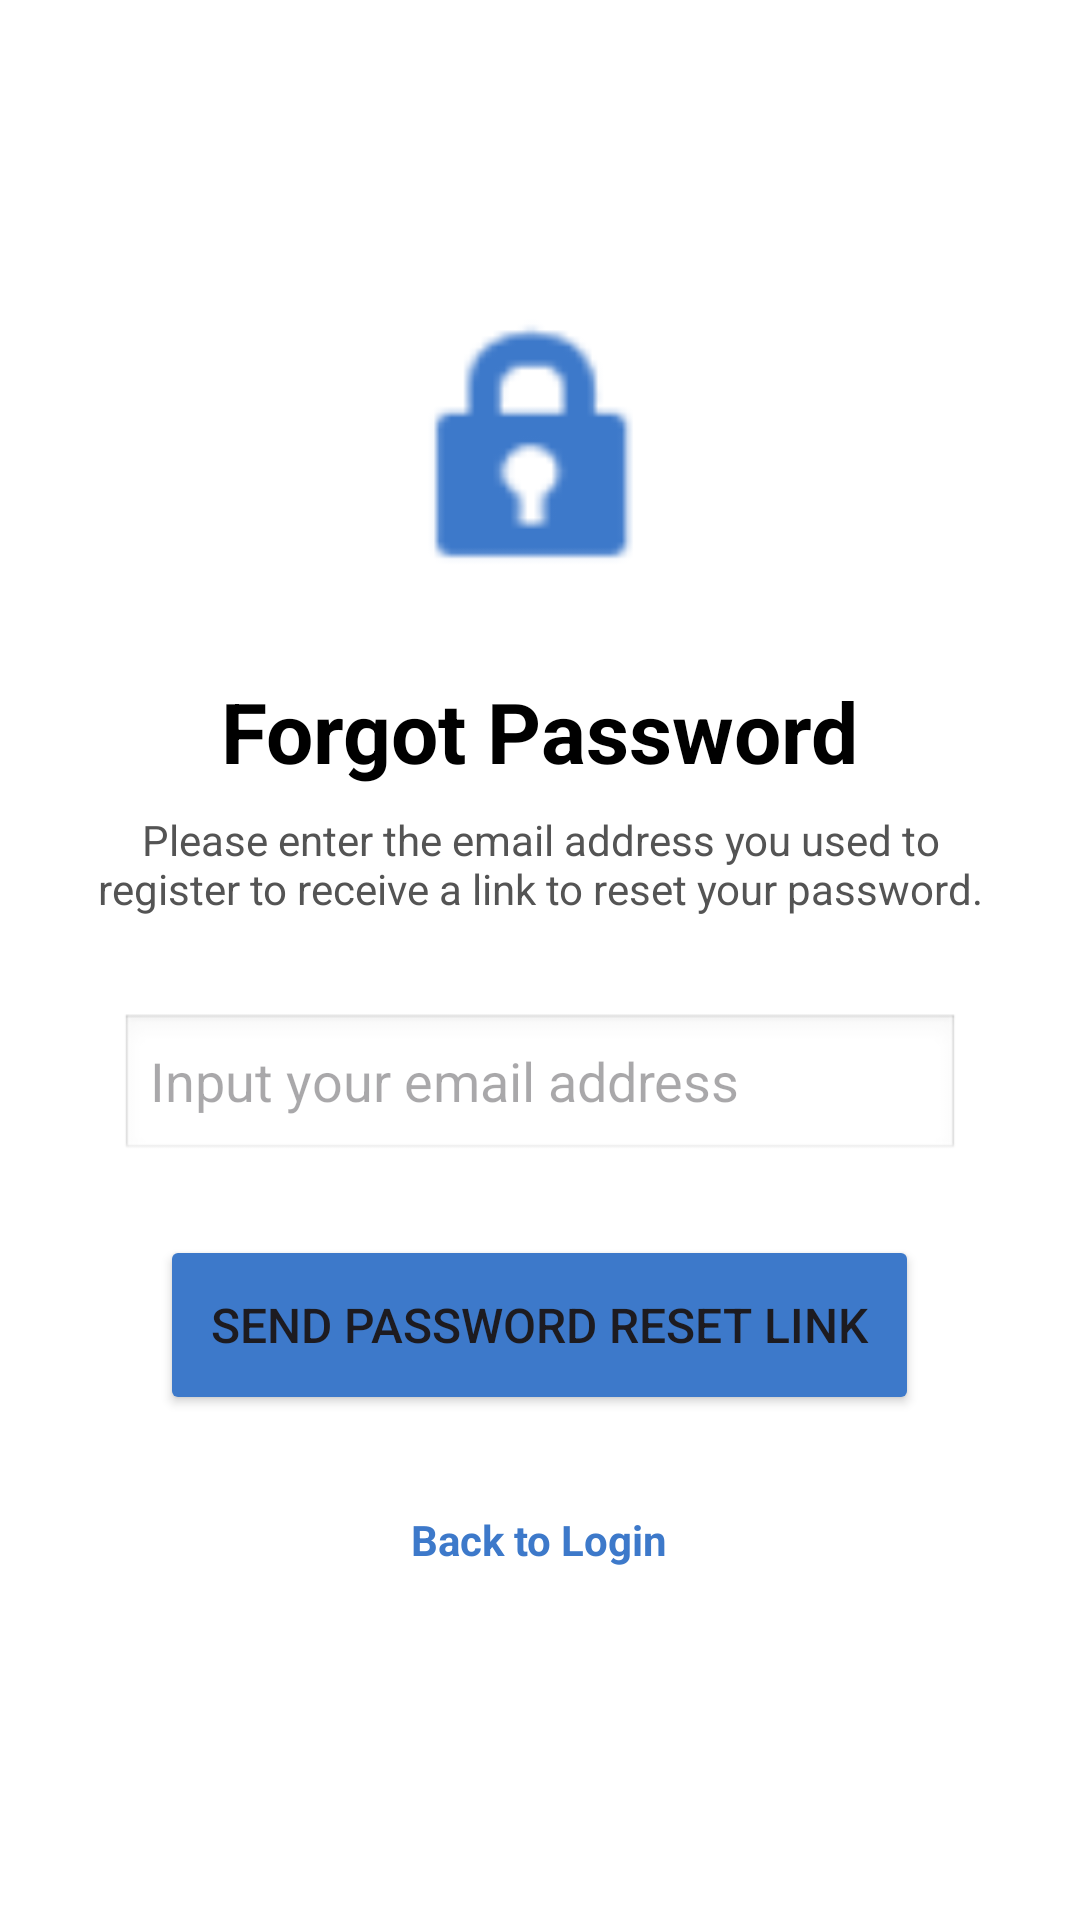

Where to tap for icons on this 1080×1920 app screen, as (x,y):
Lock Icon: (532,443)
